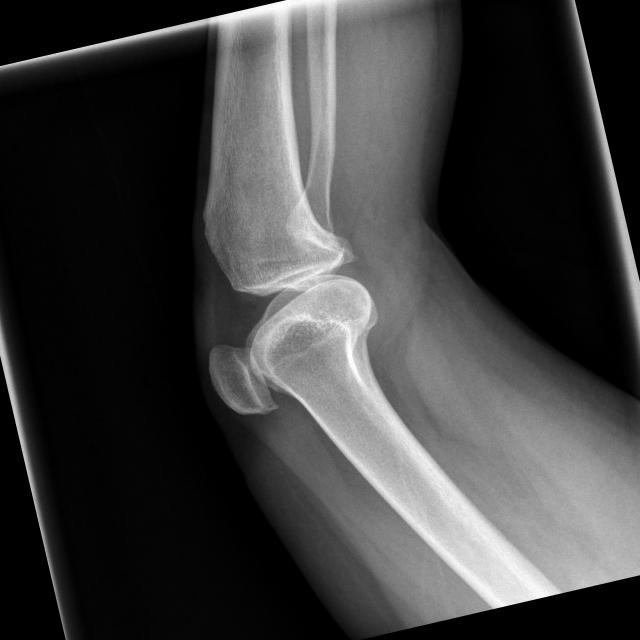Knee: (172, 186, 396, 432)
